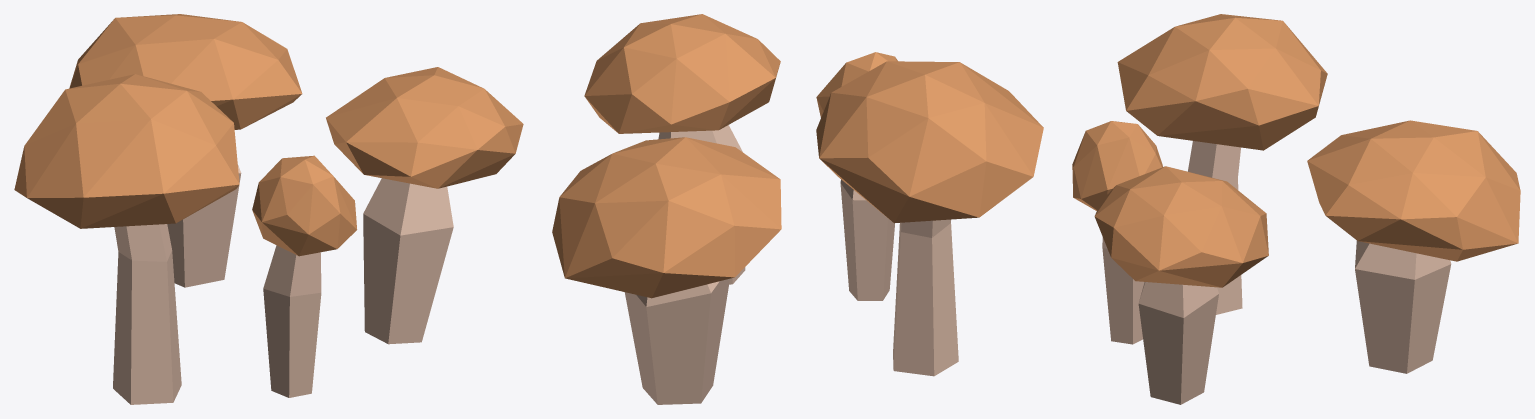
Rendered from Mushroom_f_06.fbx.
The picture shows the model from 3 angles, left to right: view 1: azimuth 30°, elevation 25°; view 2: azimuth 150°, elevation 25°; view 3: azimuth 270°, elevation 25°; orthographic projection. The views are drawn at different scales.
Visible parts, largest first — view 1: Mushroom_f_06; view 2: Mushroom_f_06; view 3: Mushroom_f_06.
Part boxes in pixels (bbox=[...]): Mushroom_f_06: bbox=[14, 14, 523, 404]; Mushroom_f_06: bbox=[552, 14, 1043, 404]; Mushroom_f_06: bbox=[1072, 14, 1520, 404].
Size of the model in its own units: 0.5415 by 0.3375 by 0.493.
